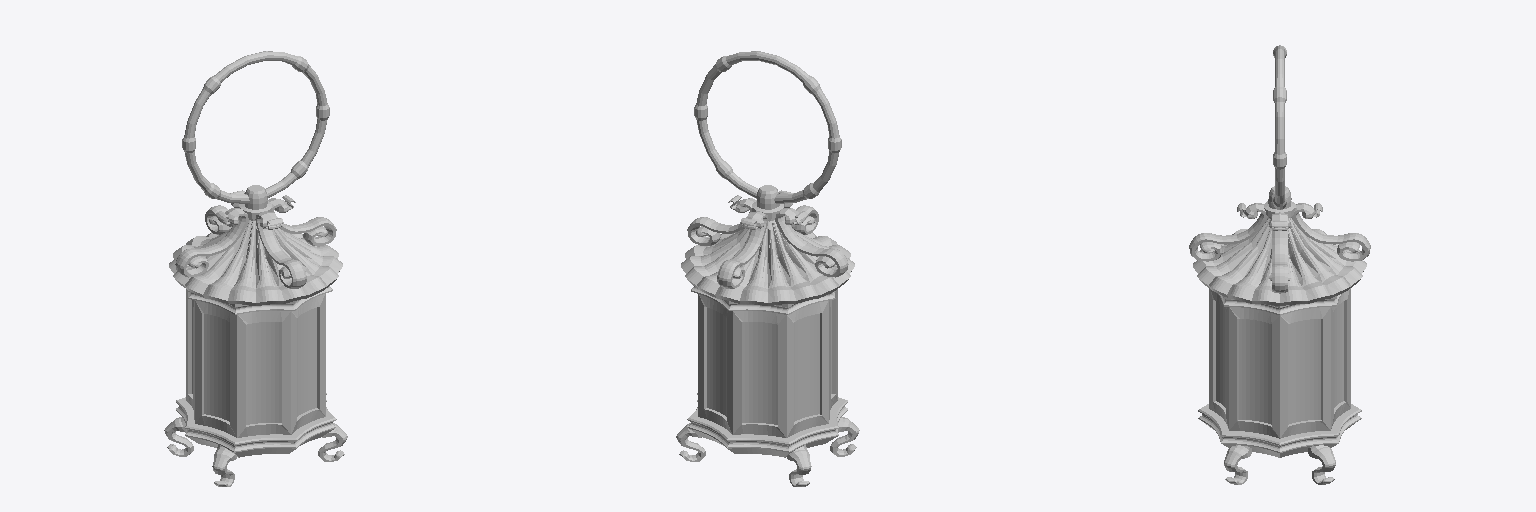
The model's file is Old_Lampare.obj.
3 renders of one model, left to right at view 1: azimuth 30°, elevation 25°; view 2: azimuth 150°, elevation 25°; view 3: azimuth 270°, elevation 25°, orthographic.
Visible parts, largest first — view 1: defaultMaterial; view 2: defaultMaterial; view 3: defaultMaterial.
Part boxes in pixels (x1,y1,x2,y2): defaultMaterial: (164,51,347,486); defaultMaterial: (676,51,859,486); defaultMaterial: (1189,45,1370,484).
Bounding box in the file's own units: 0.5434 × 1.33 × 0.5434.